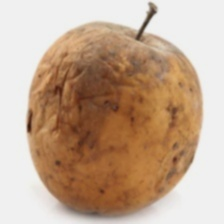apple: (46, 2, 185, 201)
